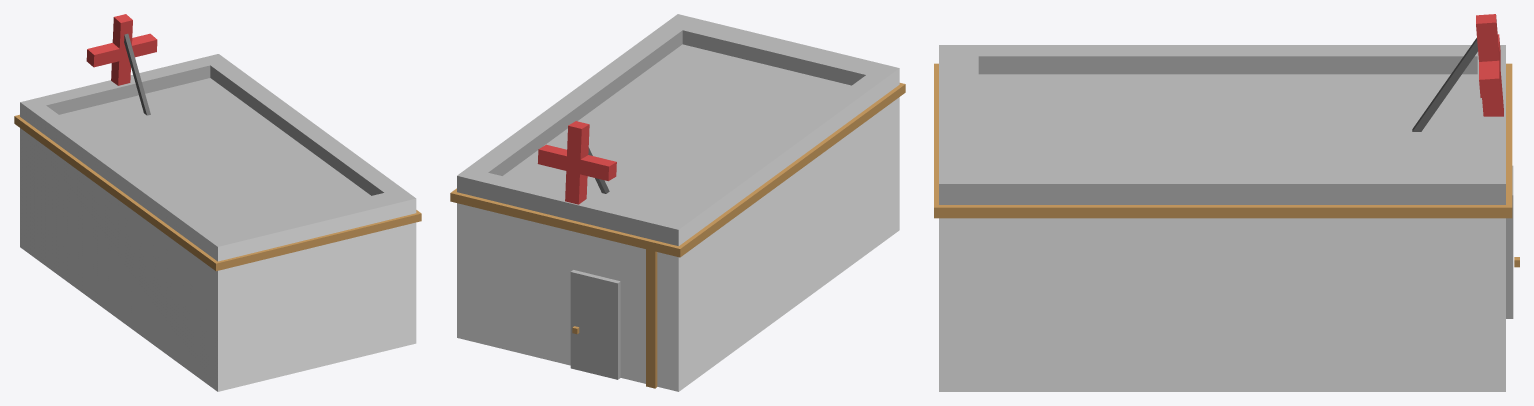
Rendered from hospital.glb.
3 views of the same model, side by side, from view 1: azimuth 30°, elevation 25°; view 2: azimuth 150°, elevation 25°; view 3: azimuth 270°, elevation 25° (orthographic). The views are drawn at different scales.
Parts seen in each view (by area): view 1: Больница; view 2: Больница; view 3: Больница.
Boxes of the visible parts, x1,y1,x2,y2 form: Больница: [14, 14, 421, 391]; Больница: [450, 14, 905, 391]; Больница: [934, 14, 1519, 391].
Bounding box in the file's own units: 8.22 × 8.05 × 14.14.
